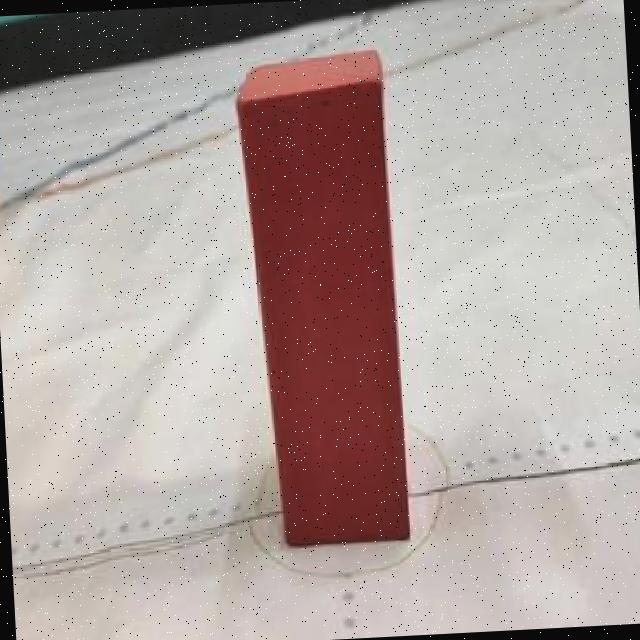redbox: (232, 41, 414, 548)
